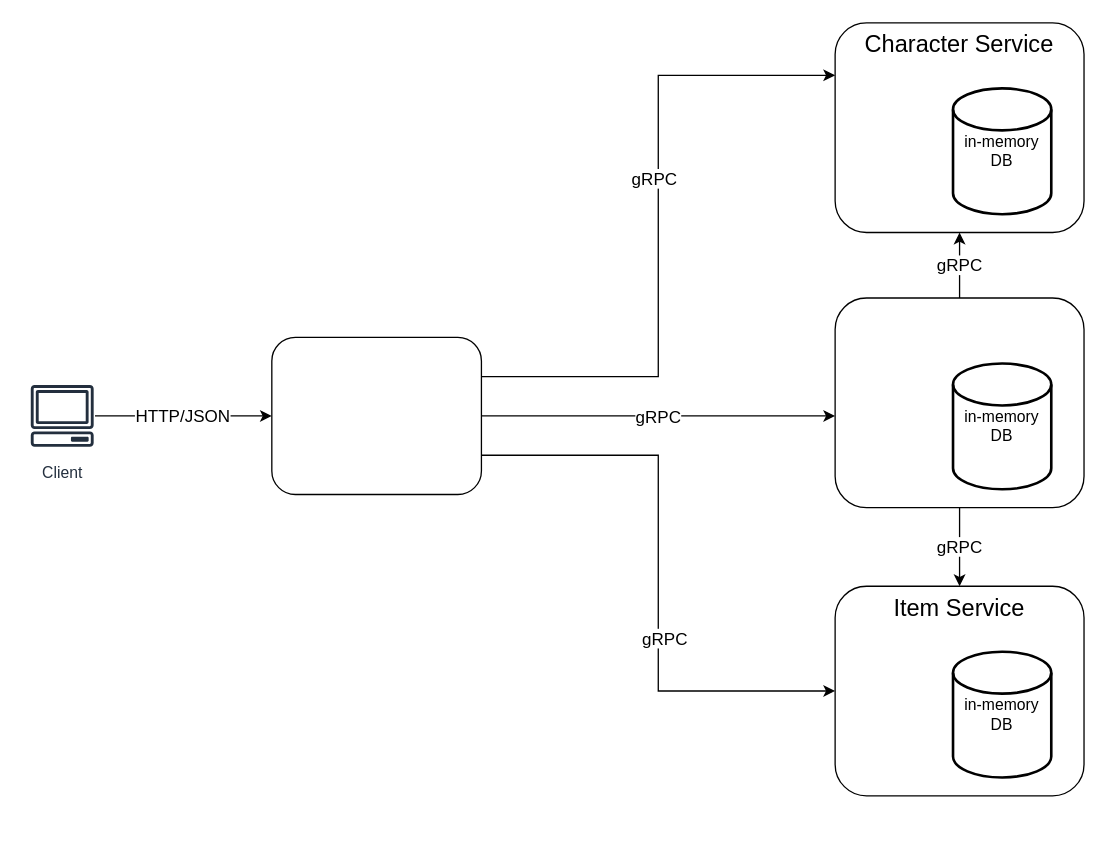
The diagram is 1107 pixels wide and 845 high, and some of its shapes have lost their labels. Each missing label, with the box of its shape:
Front Service: (271, 336, 481, 495)
Inventory Service: (834, 297, 1084, 508)
